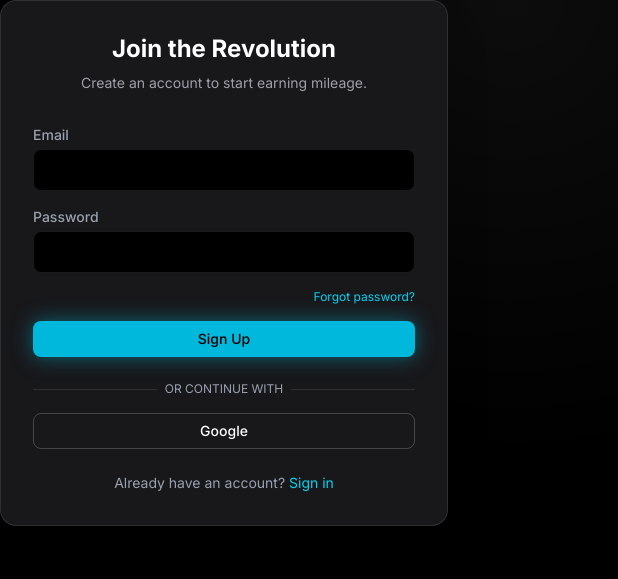
Test case: AuthForm › Signup Mode › displays error message on signup failure
Type "existing@example.com" into the field labelled "Email" at (224, 170), box [33, 149, 415, 191]
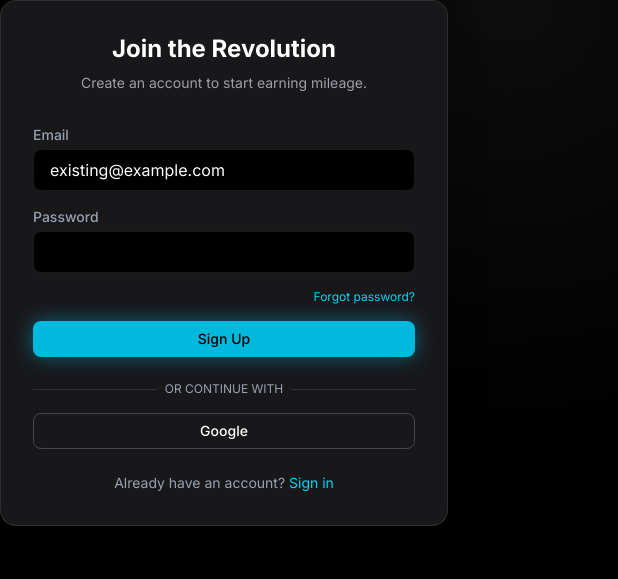
Type "password123" into the password field labelled "Password" at (224, 252), box [33, 231, 415, 273]
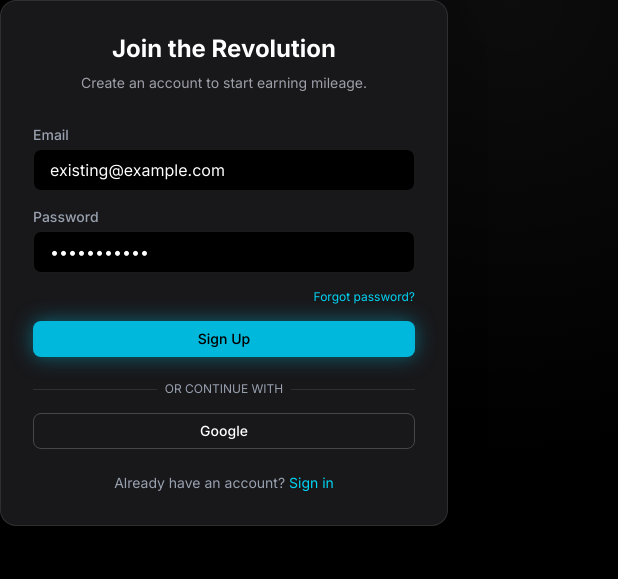
Click the button "Sign Up" at (224, 339), box [33, 321, 415, 357]
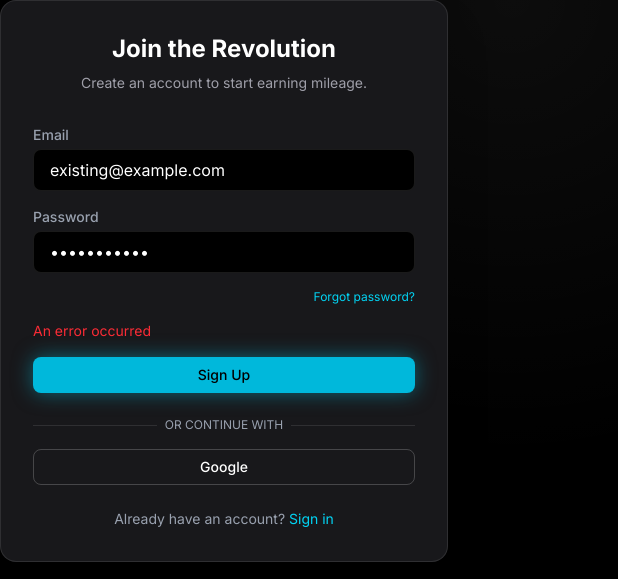
expect the text "An error occurred" is shown: met, box [33, 322, 151, 339]
